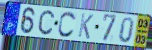0: (118, 16, 135, 44)
6: (20, 6, 37, 36)
7: (102, 13, 118, 43)
C: (57, 11, 77, 39), (38, 10, 56, 37)
K: (77, 12, 95, 41)
